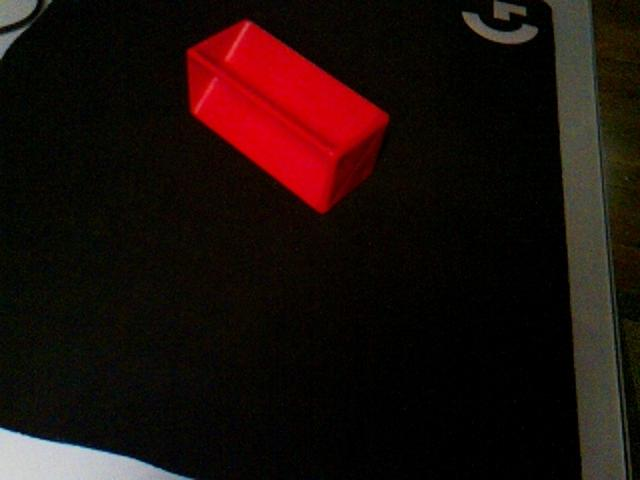red: (184, 18, 391, 215)
